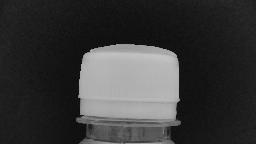Broken Cap: (77, 42, 183, 130)
